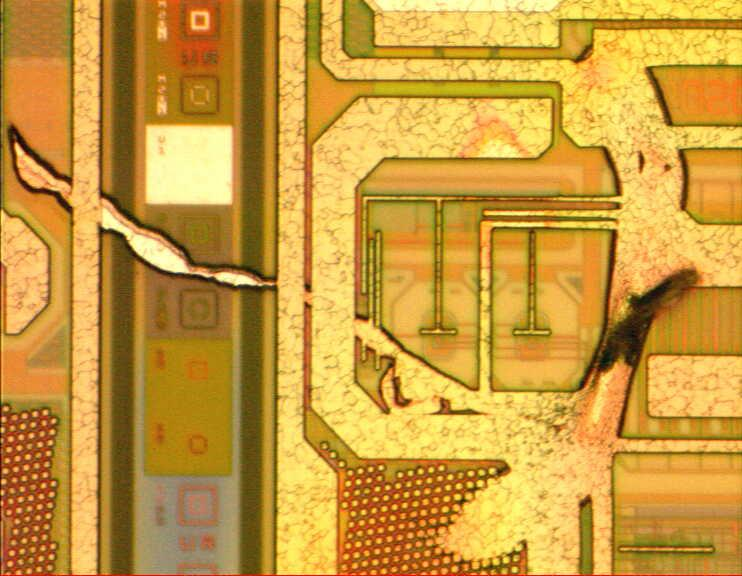COATING BAD: (1, 33, 722, 573)
